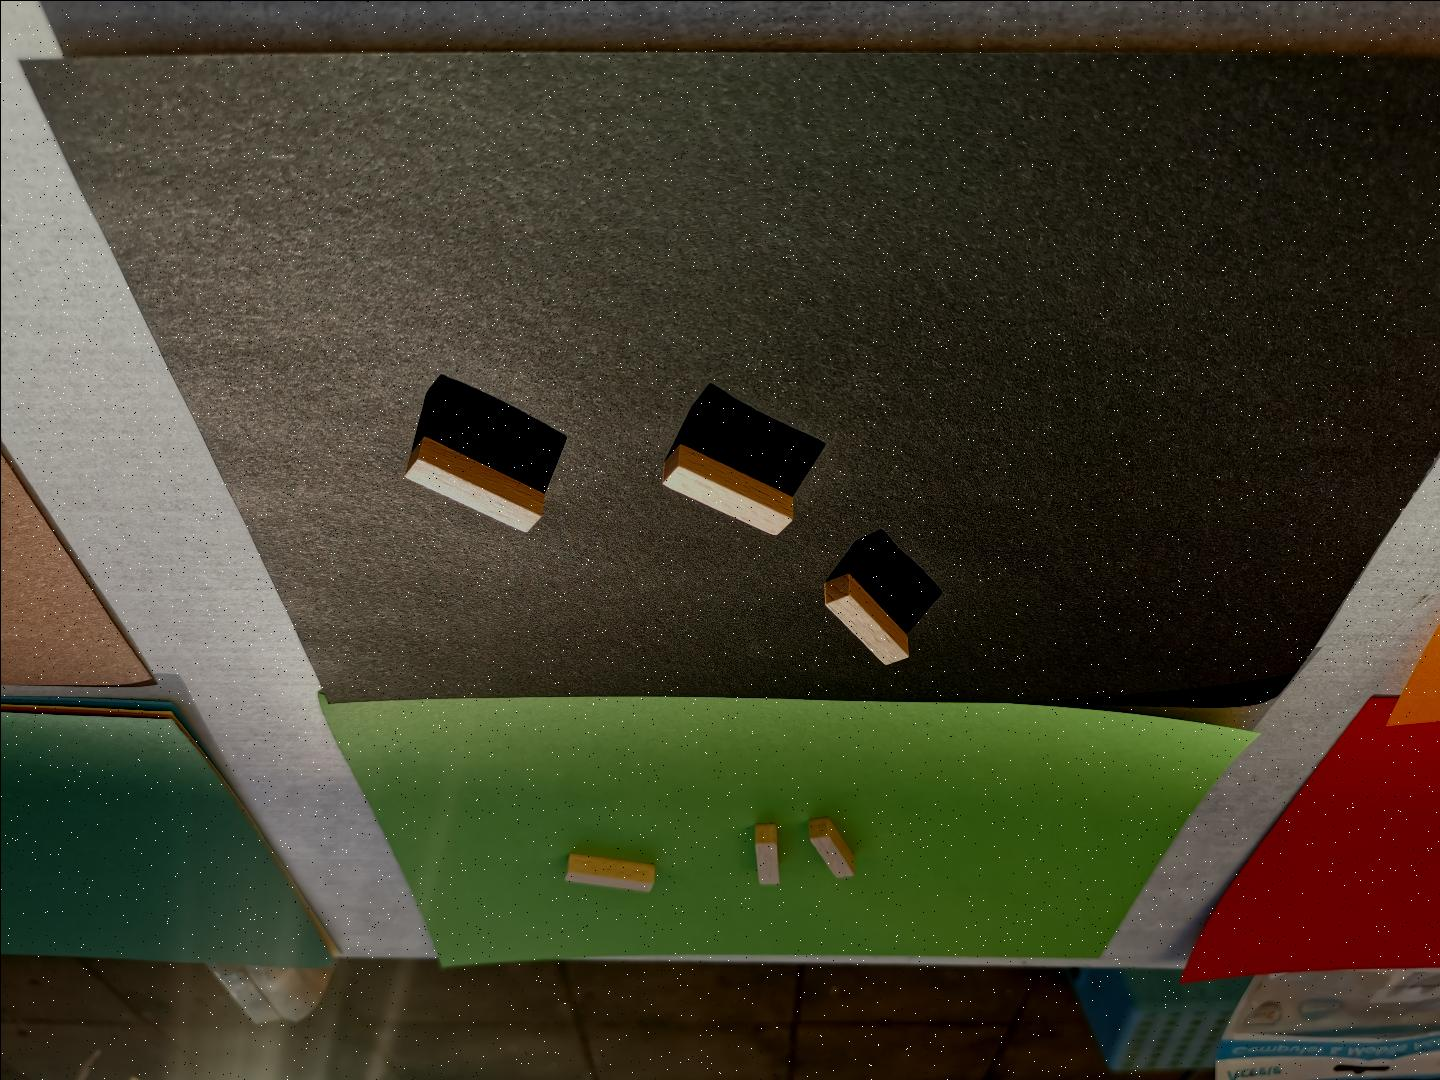jenga: (405, 436, 543, 532), (661, 445, 793, 534), (824, 574, 908, 664), (566, 852, 655, 892), (807, 816, 855, 878), (754, 824, 779, 883)
